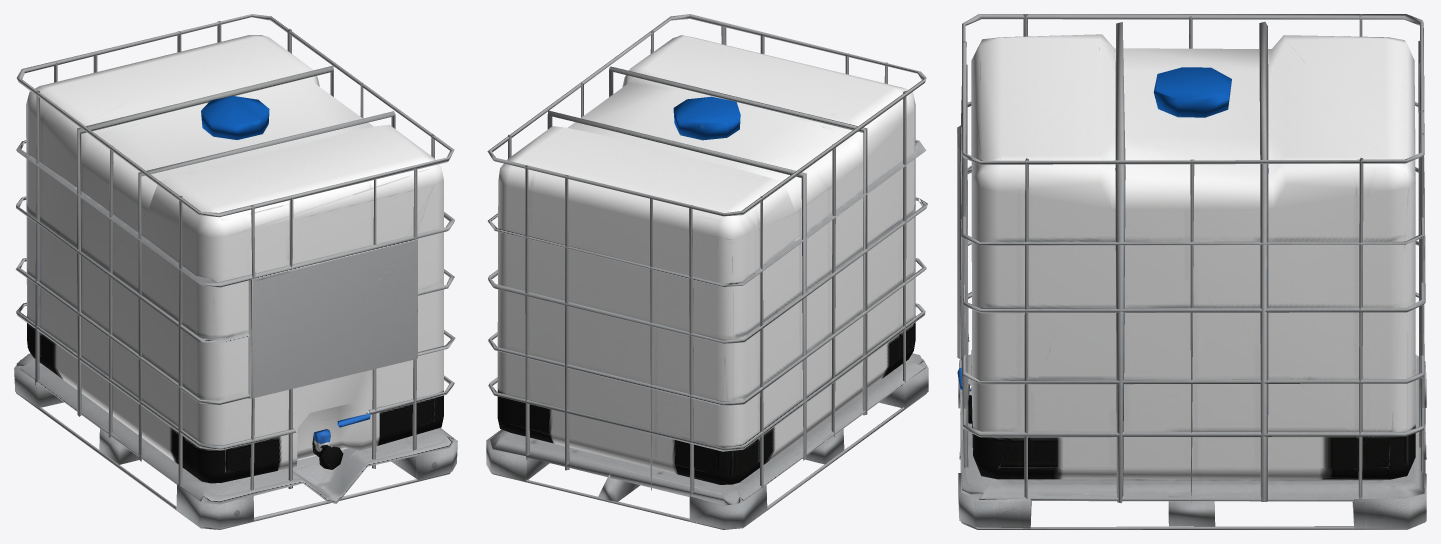
File: ibc.glb
3 views of the same model, side by side, from view 1: azimuth 30°, elevation 25°; view 2: azimuth 150°, elevation 25°; view 3: azimuth 270°, elevation 25° (orthographic). The views are drawn at different scales.
Visible parts, largest first — view 1: Object_4; view 2: Object_4; view 3: Object_4.
Part boxes in pixels (left/top/right/bottom): Object_4: left=14, top=14, right=457, bottom=529; Object_4: left=486, top=14, right=928, bottom=529; Object_4: left=957, top=14, right=1426, bottom=529.
Size of the model in its own units: 1.49 by 1.77 by 2.
Materials: 1 (1 with a texture image).
